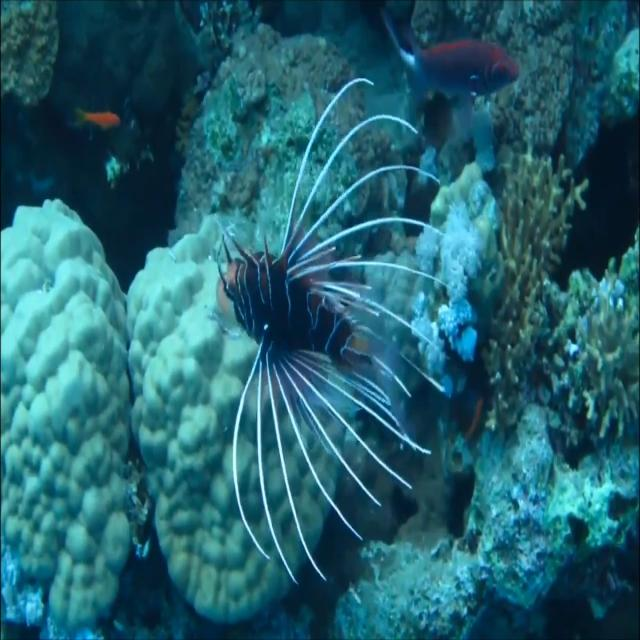Lionfish -Endangered- -Poisonous-: (214, 76, 440, 578)
